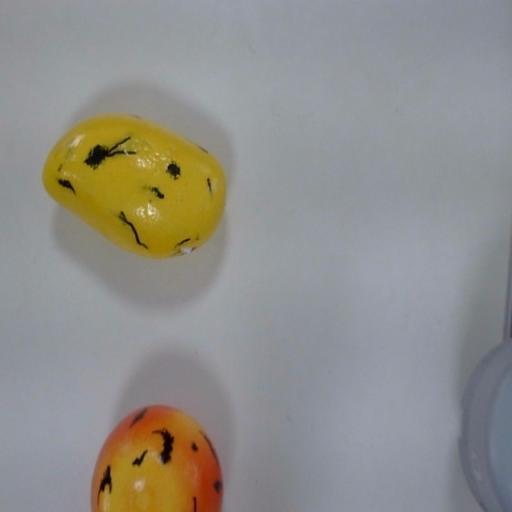Defective: (37, 110, 231, 266), (86, 397, 228, 512)
